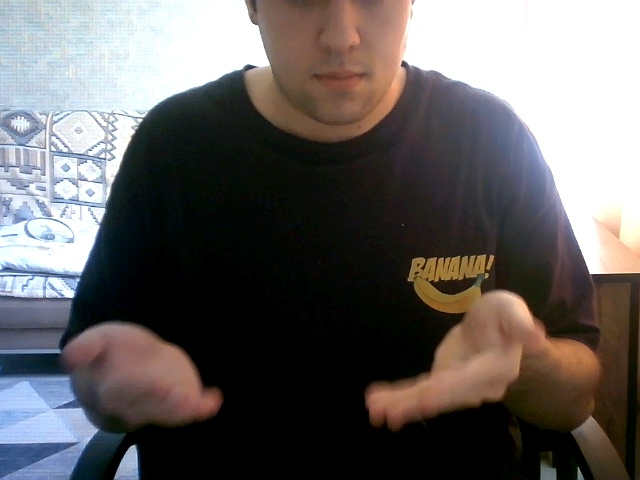hello: (53, 248, 564, 450)
